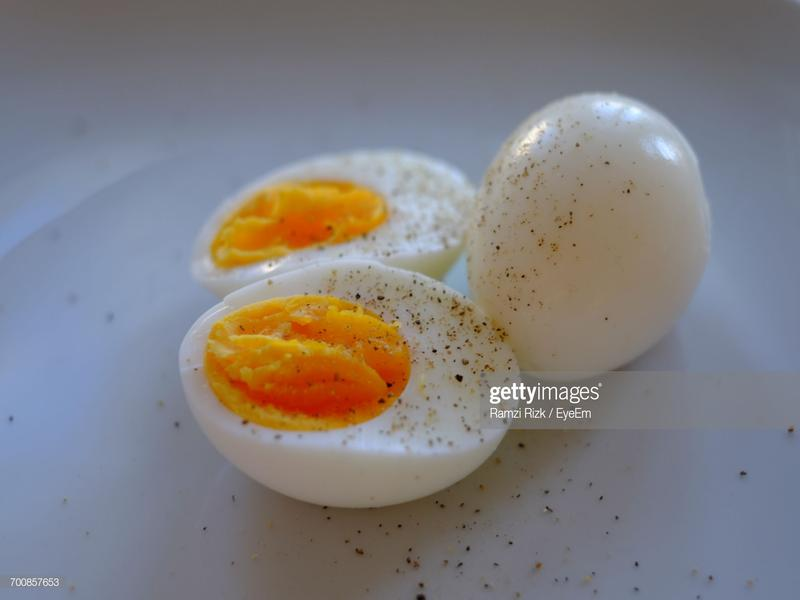egg: (165, 58, 765, 571)
